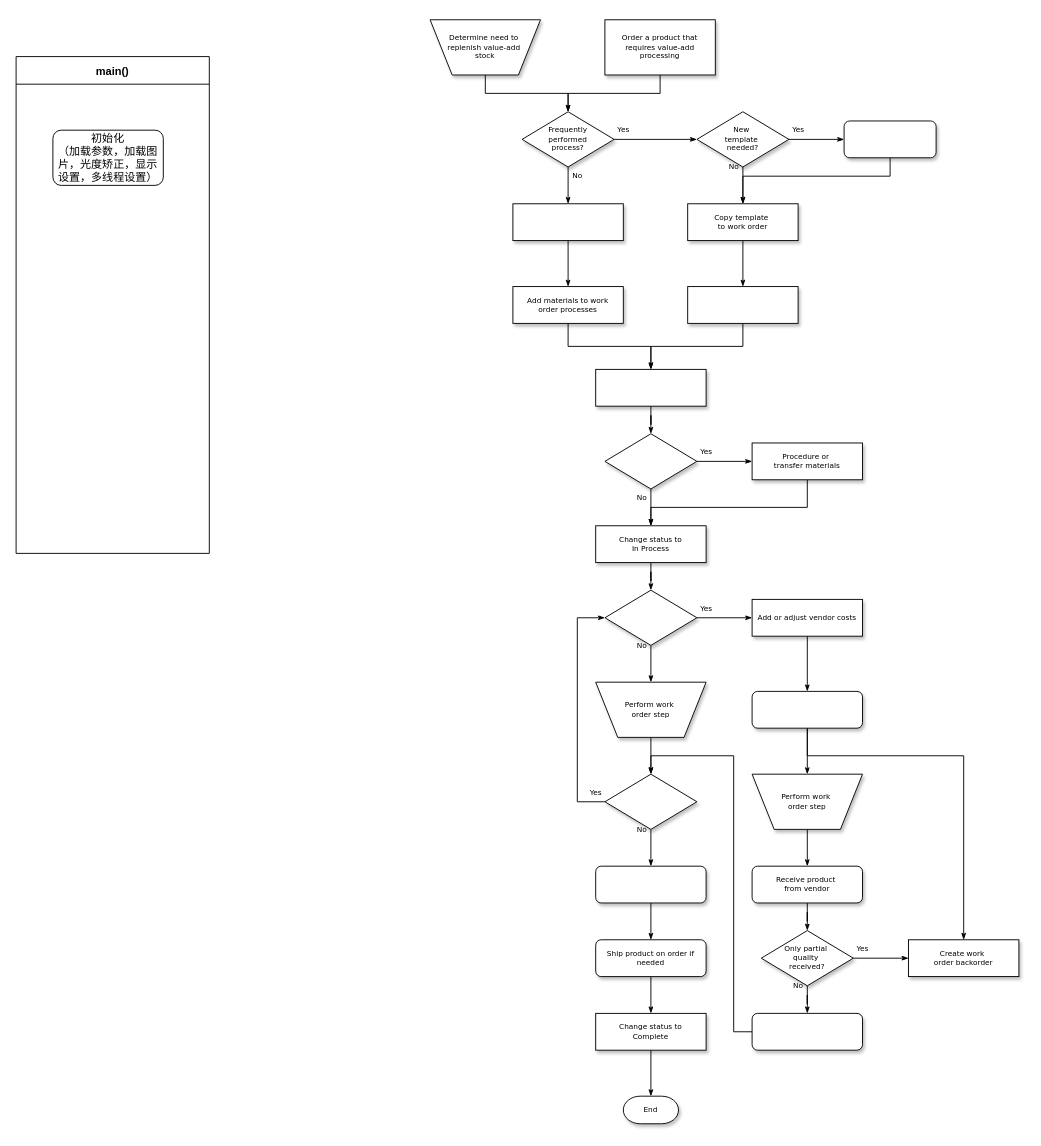
Some shapes in this 1041 by 1146 pixel diagram are drawn without their labels. The centre of each missing label's shape, as x and y in pixels:
"Additional processing required?" belongs at [651,803].
"Adjust material quantities if needed" belongs at [743,306].
"Create a work order" belongs at [568,223].
"Create work order template" belongs at [891,140].
"Material quantities not in stock?" belongs at [651,462].
"Monitor work orders" belongs at [651,389].
"Pay vendor invoice" belongs at [808,1033].
"Receive info stock" belongs at [651,885].
"Ship materials to vendor" belongs at [808,711].
"Step performed by outside vendor?" belongs at [651,619].
